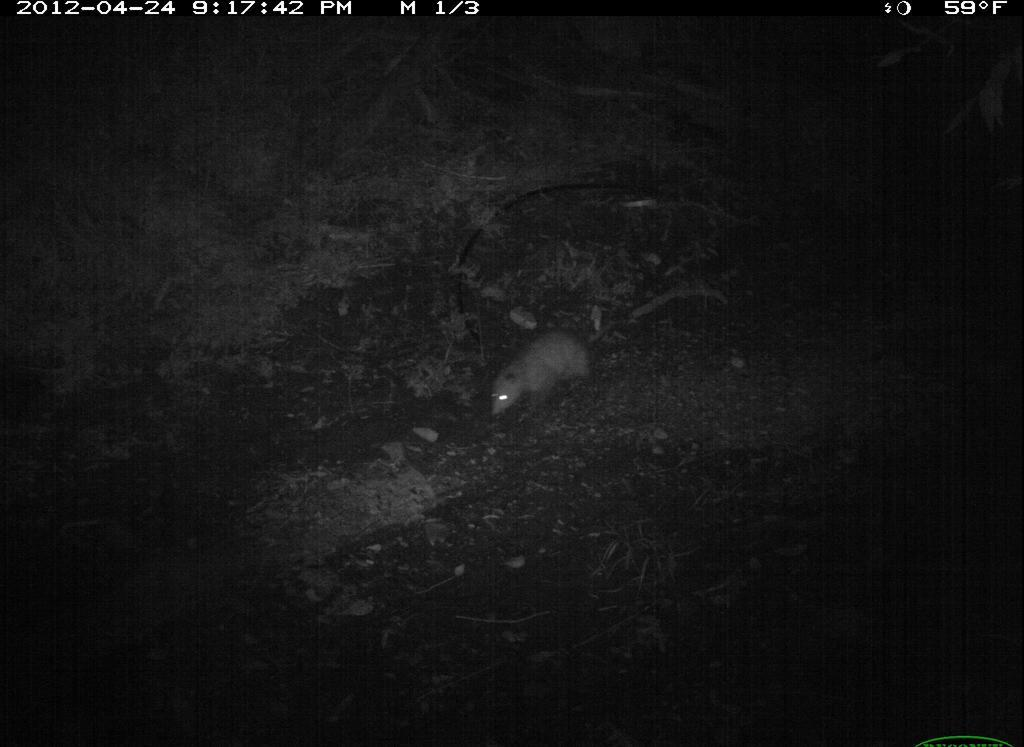opossum: (477, 308, 651, 427)
